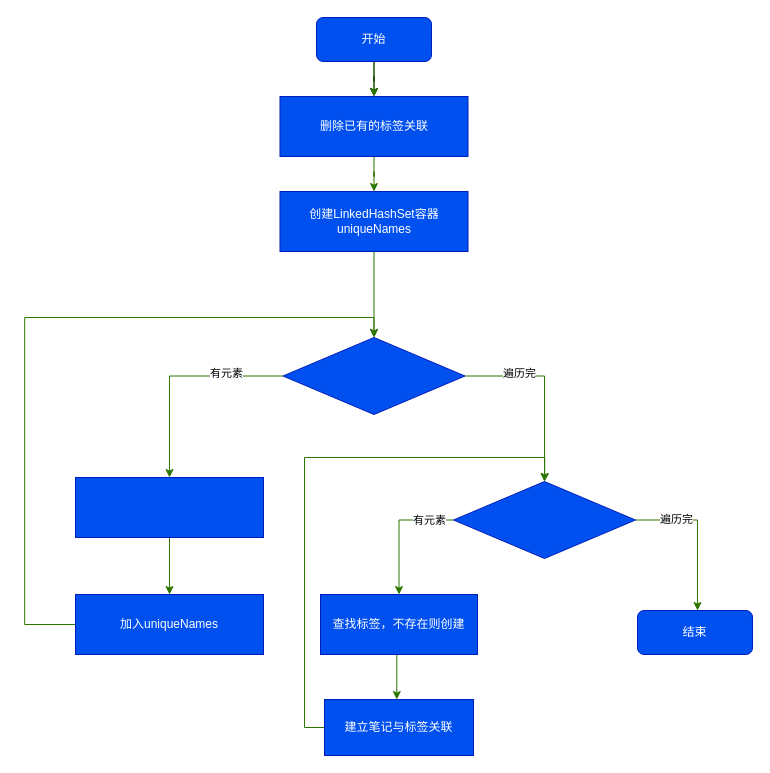
Image size: 770x773. Some labels were removed from this diagram. The shapes that lost their labels are listed below. From the top down, each one's centre as x and y in pixels, then its label:
the point at 373,375: 遍历tagsName列表
the point at 169,507: 逃过null和空白，长度>50则报错
the point at 544,519: 遍历去重后的uniqueNames
